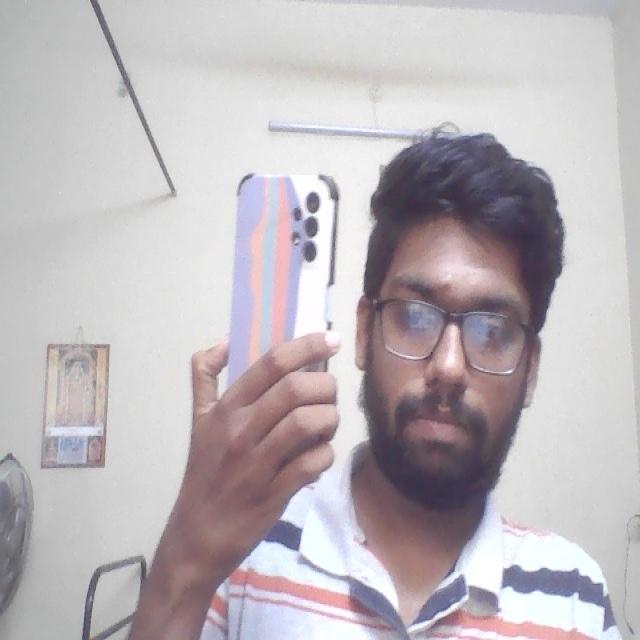Mobile: (226, 170, 345, 348)
